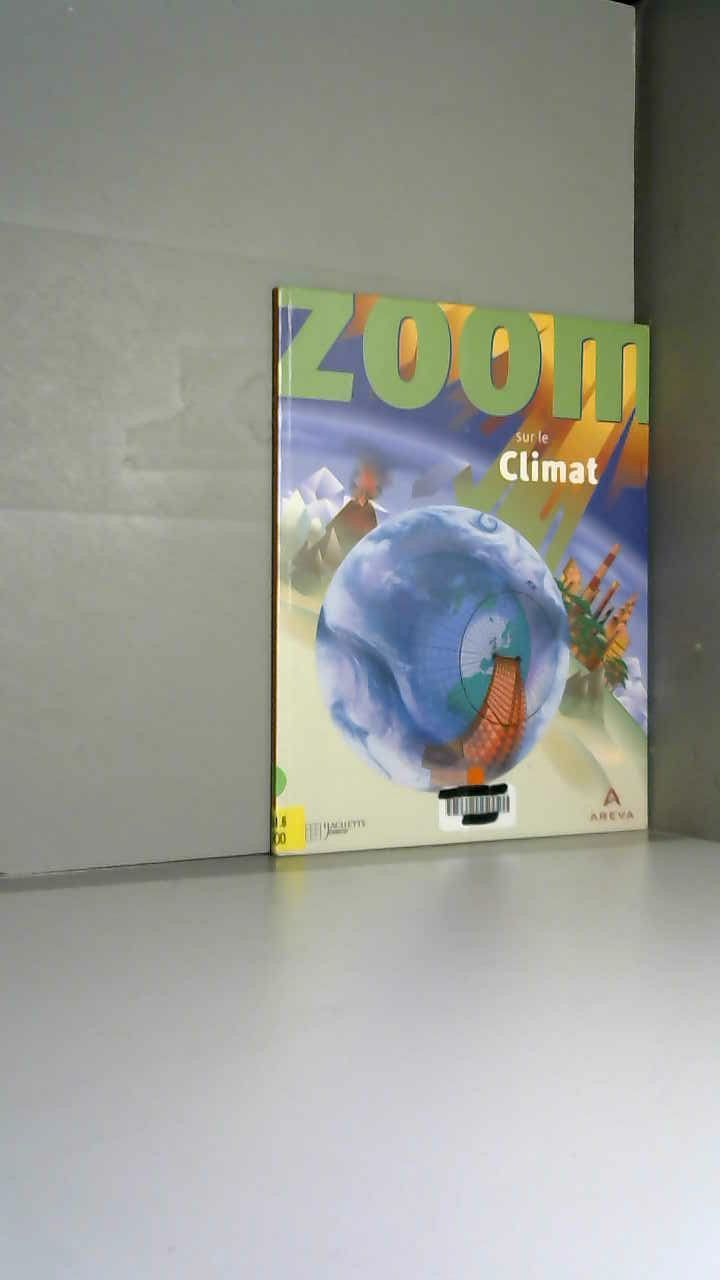book: (240, 260, 720, 895)
